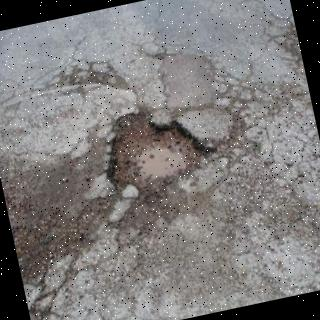pothole: (107, 112, 216, 197)
